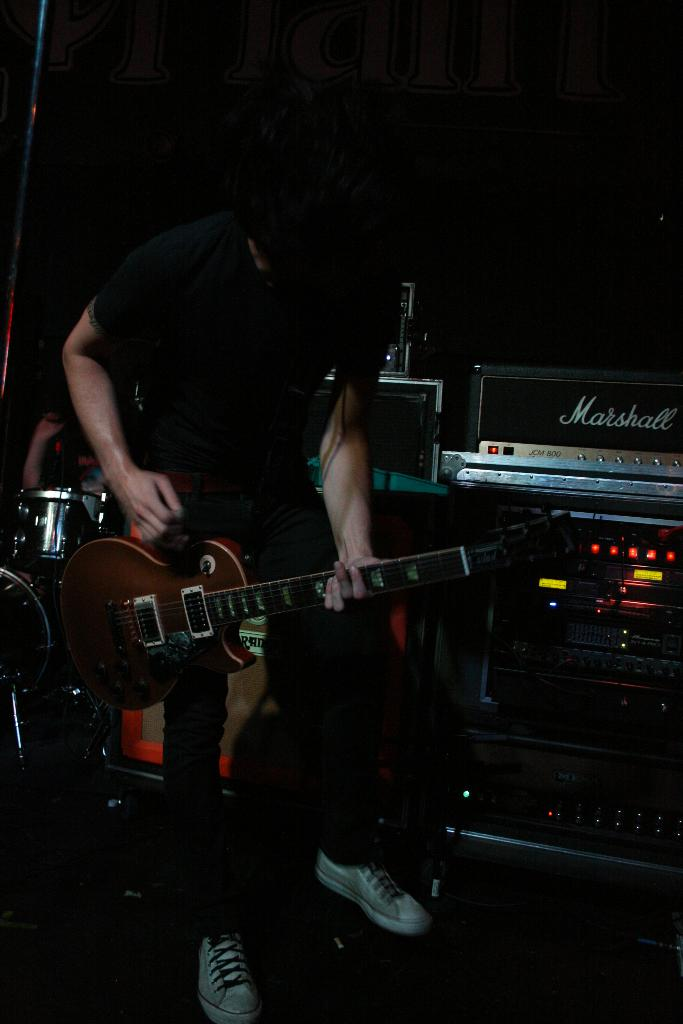Human_hand: (95, 456, 183, 530), (322, 550, 384, 617), (31, 414, 65, 438)
